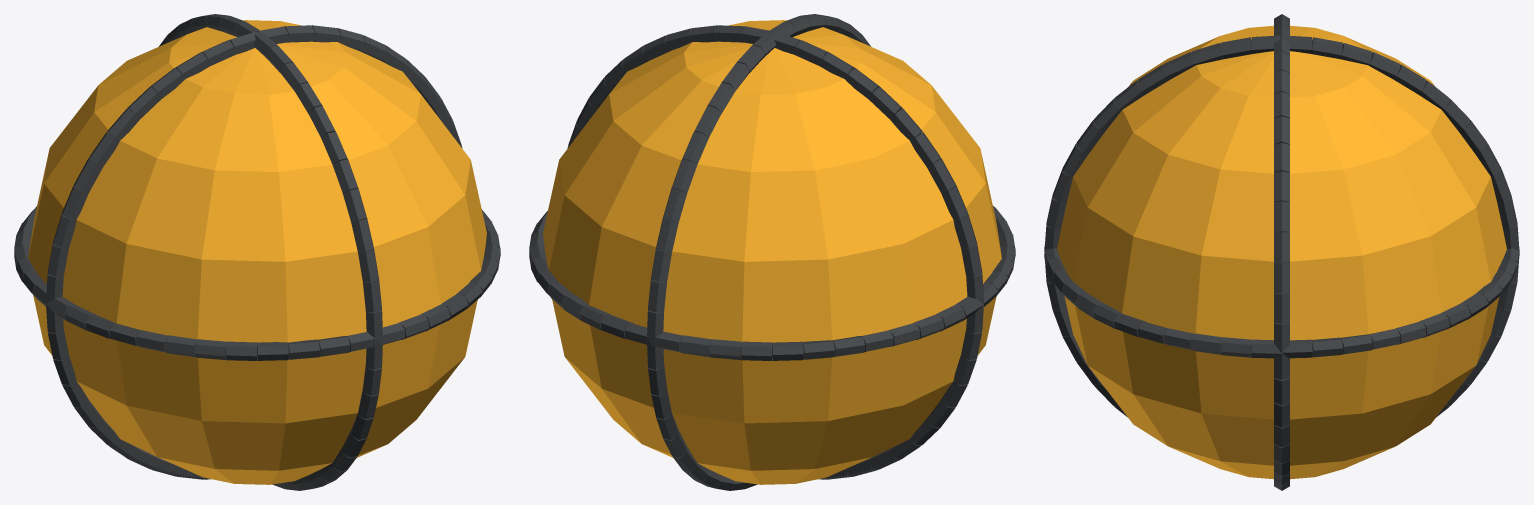
Rendered from Sport_Basketball.glb.
The picture shows the model from 3 angles, left to right: view 1: azimuth 30°, elevation 25°; view 2: azimuth 150°, elevation 25°; view 3: azimuth 270°, elevation 25°; orthographic projection. The views are drawn at different scales.
Visible parts, largest first — view 1: Sport_Basketball; view 2: Sport_Basketball; view 3: Sport_Basketball.
Boxes of the visible parts, x1,y1,x2,y2 form: Sport_Basketball: (14,14,500,490); Sport_Basketball: (529,14,1015,490); Sport_Basketball: (1044,14,1519,490).
Bounding box in the file's own units: 0.7339 × 0.7339 × 0.7311.
